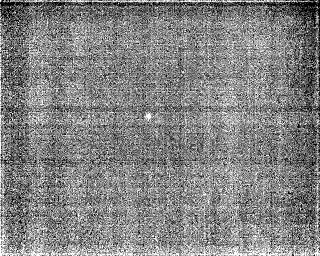BIRD: (143, 110, 154, 122)
